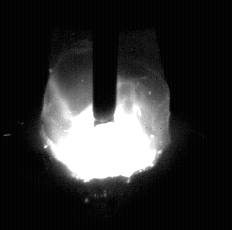arame: (94, 0, 118, 126)
poca: (38, 0, 169, 230)
